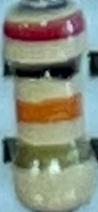Black: (13, 59, 79, 78)
Orange: (18, 95, 83, 121)
Red: (7, 12, 85, 43)
Side-Gold: (15, 140, 92, 166)
